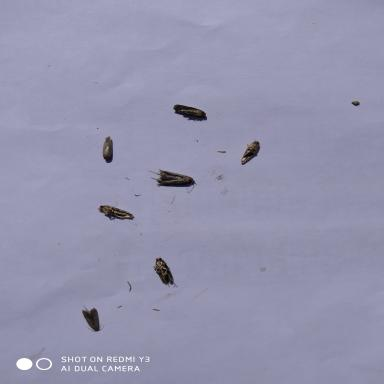pbw: (146, 254, 186, 296), (149, 164, 202, 194), (231, 134, 274, 167), (91, 201, 141, 227), (71, 302, 109, 336), (163, 98, 212, 124), (93, 130, 125, 166)
